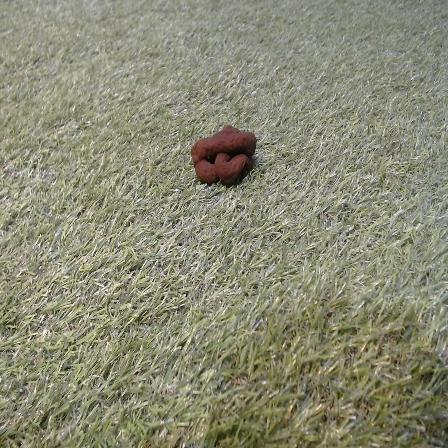dog-poop: (190, 126, 256, 186)
